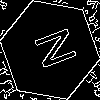N: (25, 25, 78, 75)
